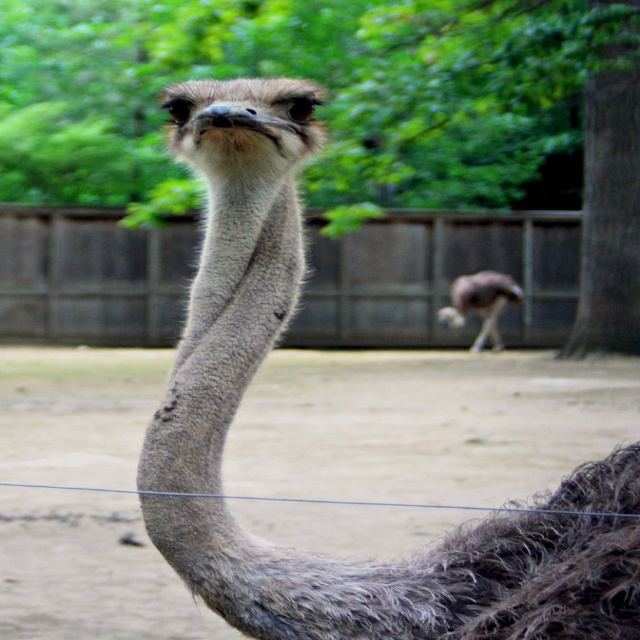Ostrich: (131, 71, 640, 640), (436, 268, 528, 353)
